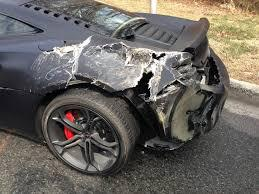quaterpanel-dent: (32, 34, 163, 92)
rear-bumper-dent: (161, 89, 225, 134)
